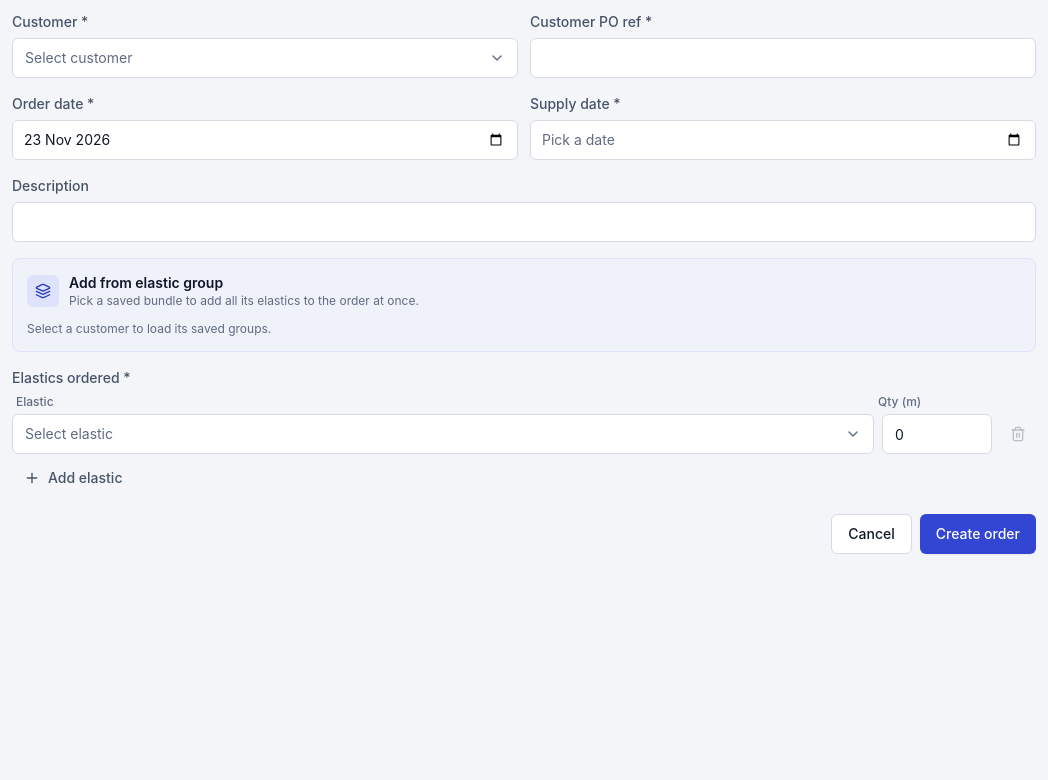
Test: adding elastics from a group › fills the elastic on every line it adds
Click the button "Select customer" at [79, 58], box [12,38,518,78]
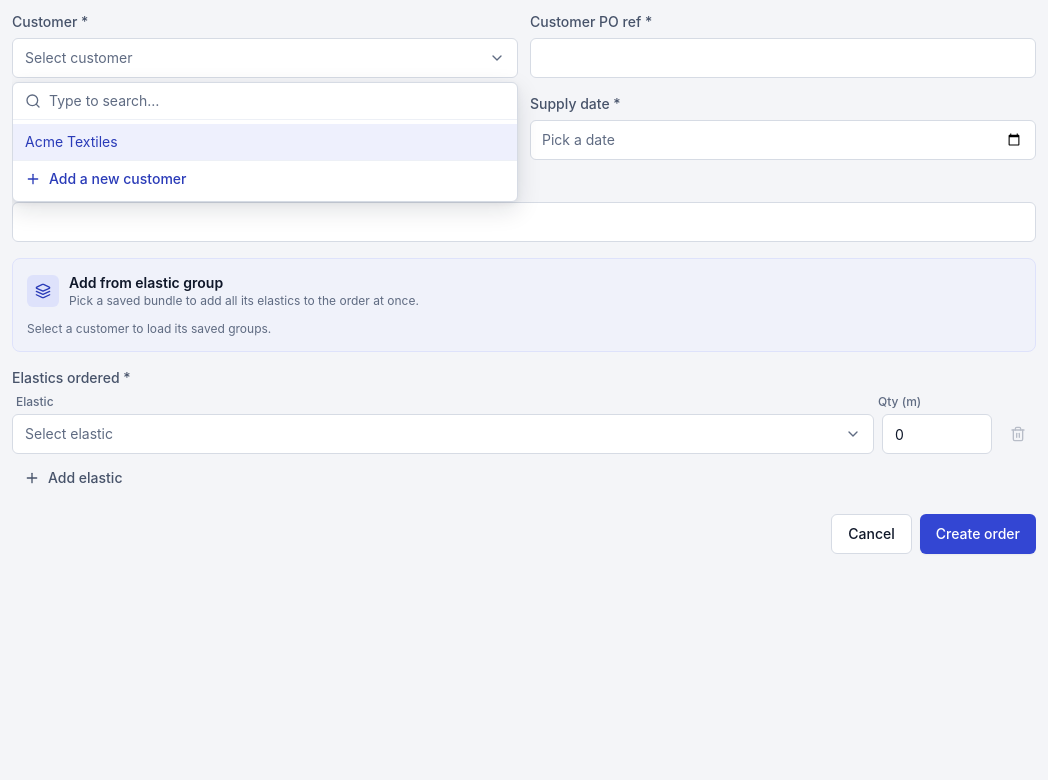
Click the option "Acme Textiles" at [71, 142], box [13,124,517,160]
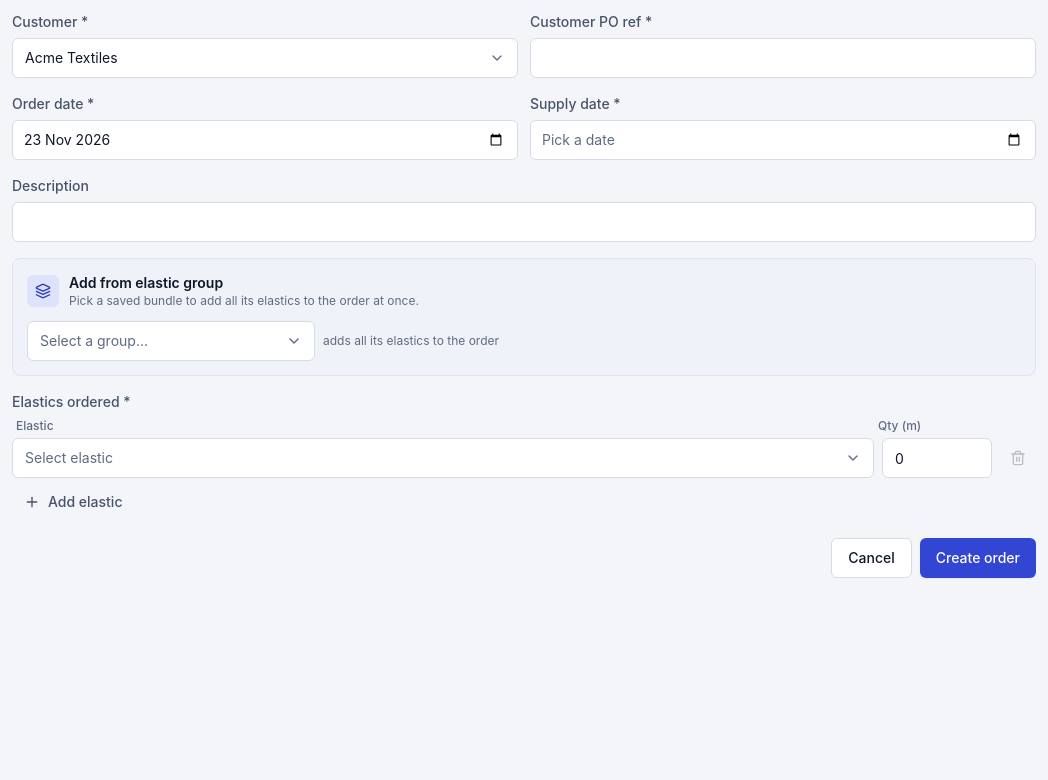
Click the button "Select a group…" at [94, 340], box [27,321,315,361]
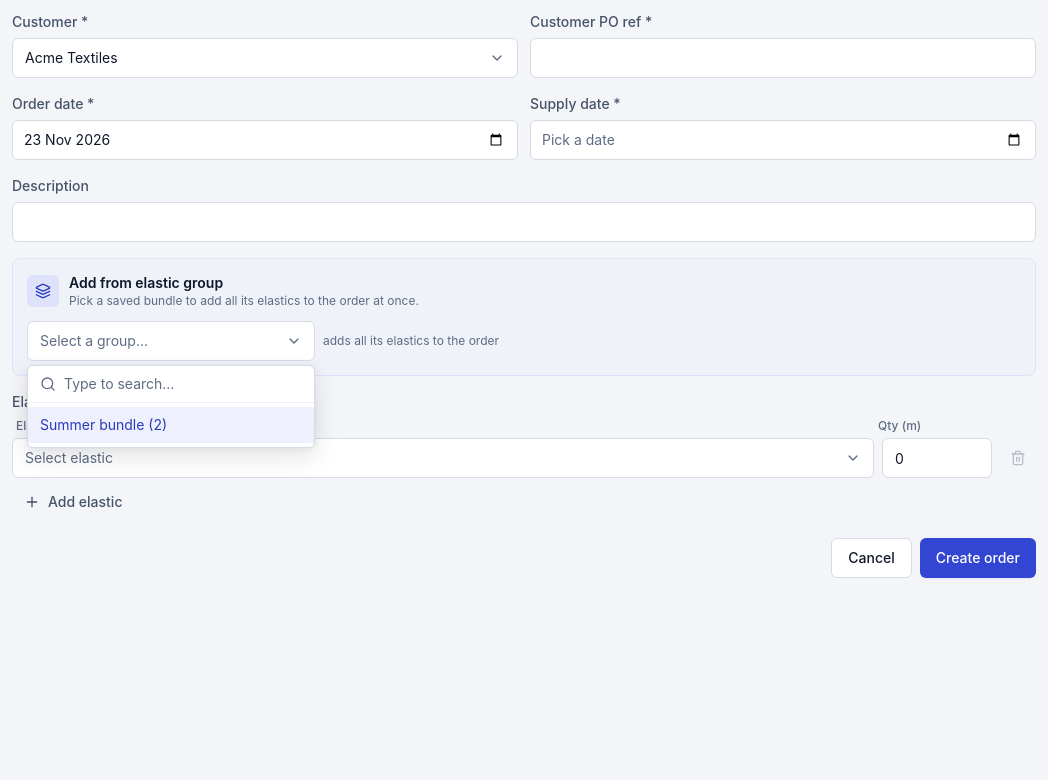
Click the option "Summer bundle (2)" at [104, 424], box [28,407,314,443]
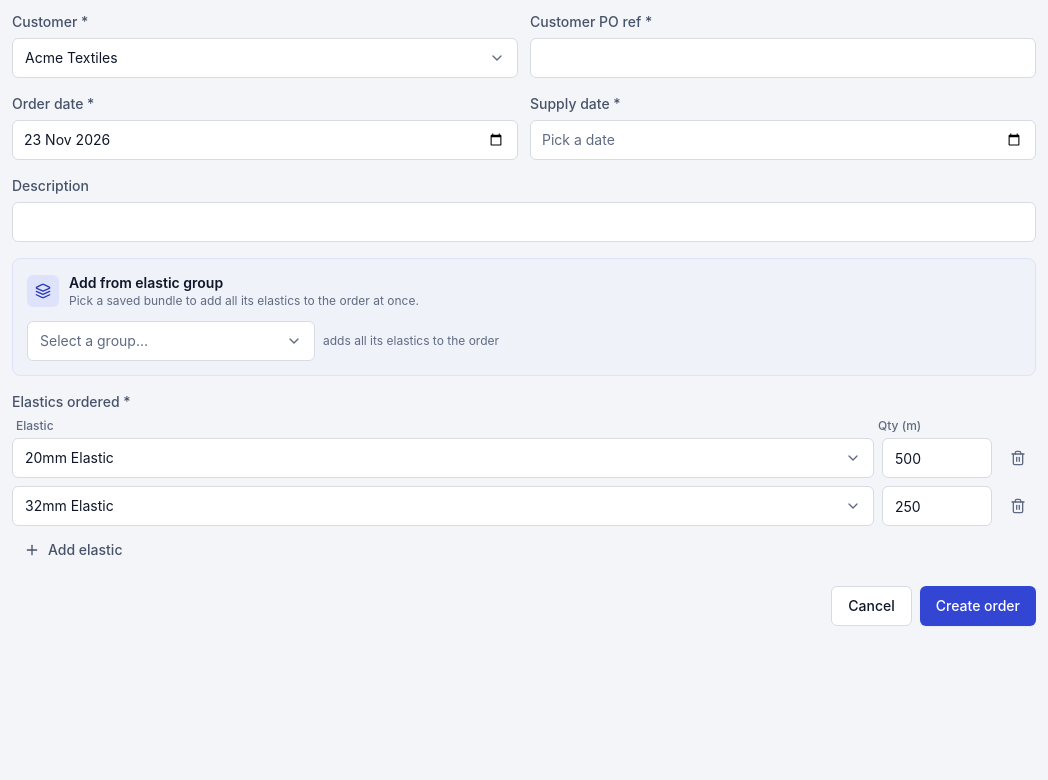
Expected: the text "20mm Elastic" is shown, [25,449,114,466]
Expected: the text "32mm Elastic" is shown, [25,497,114,514]
